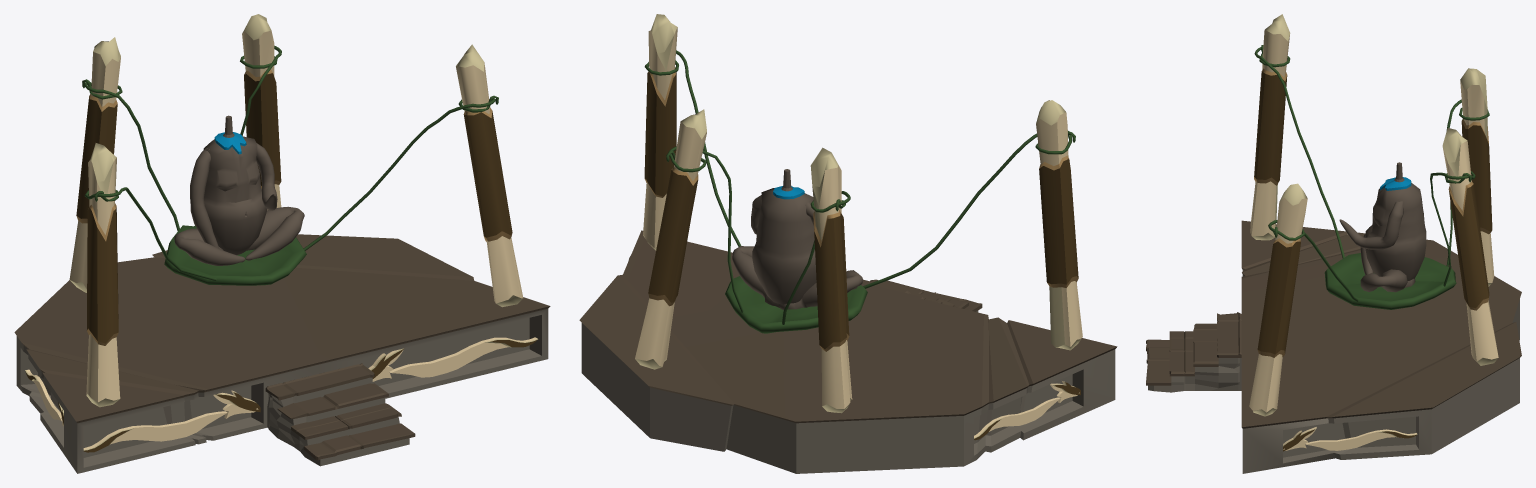
Rendered from model-templeMask1.fbx.
The picture shows the model from 3 angles, left to right: view 1: azimuth 30°, elevation 25°; view 2: azimuth 150°, elevation 25°; view 3: azimuth 270°, elevation 25°; orthographic projection. The views are drawn at different scales.
Visible parts, largest first — view 1: pSphere14; view 2: pSphere14; view 3: pSphere14.
Boxes of the visible parts, x1,y1,x2,y2 form: pSphere14: (14,14,550,473); pSphere14: (579,14,1117,473); pSphere14: (1146,14,1521,473).
Size of the model in its own units: 102 by 62.82 by 78.56.
